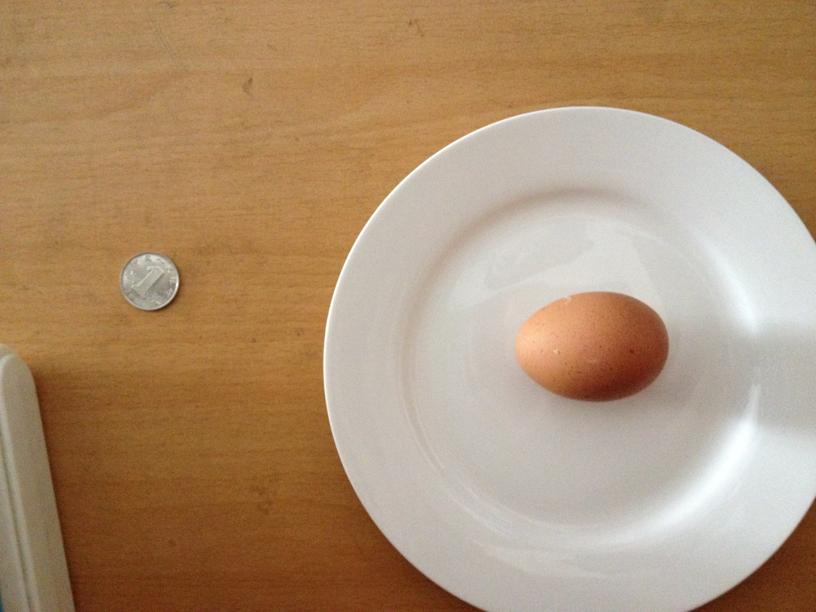coin: (115, 248, 176, 304)
egg: (512, 291, 670, 403)
